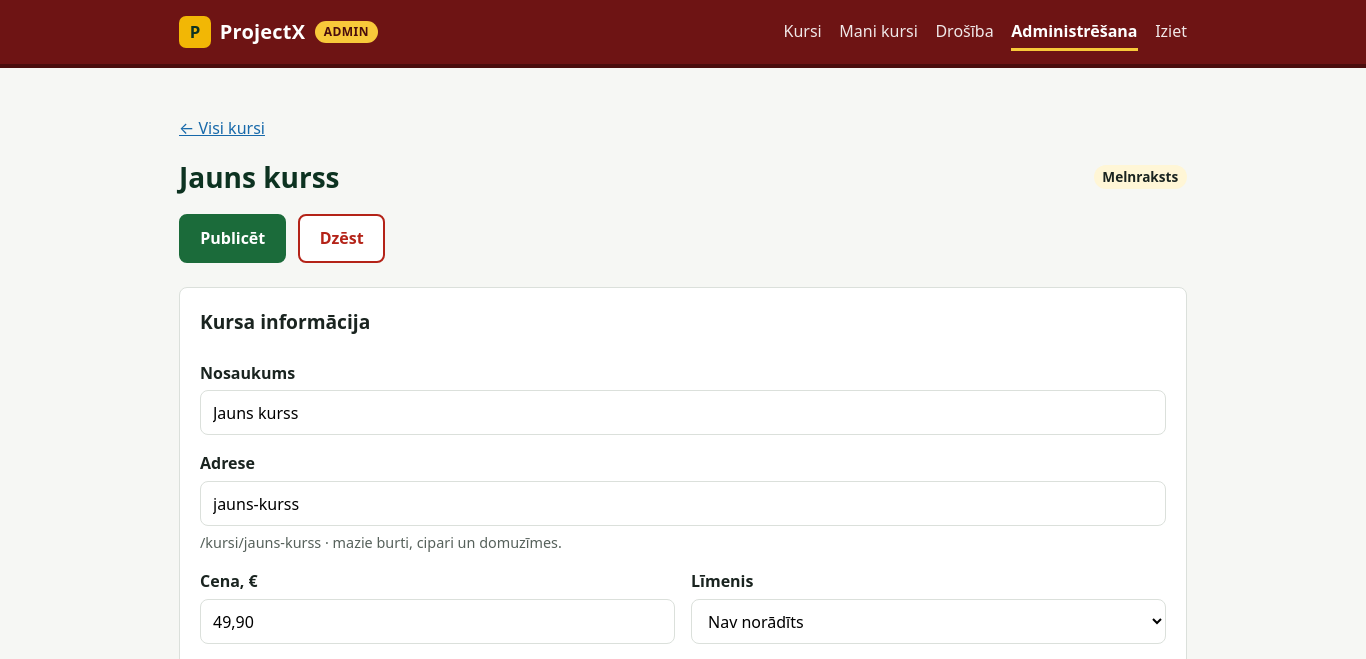
Test: admin courses › shows a Latvian explanation when publishing an empty course fails
Click the button "Publicēt": (233,238) [179,214,286,263]
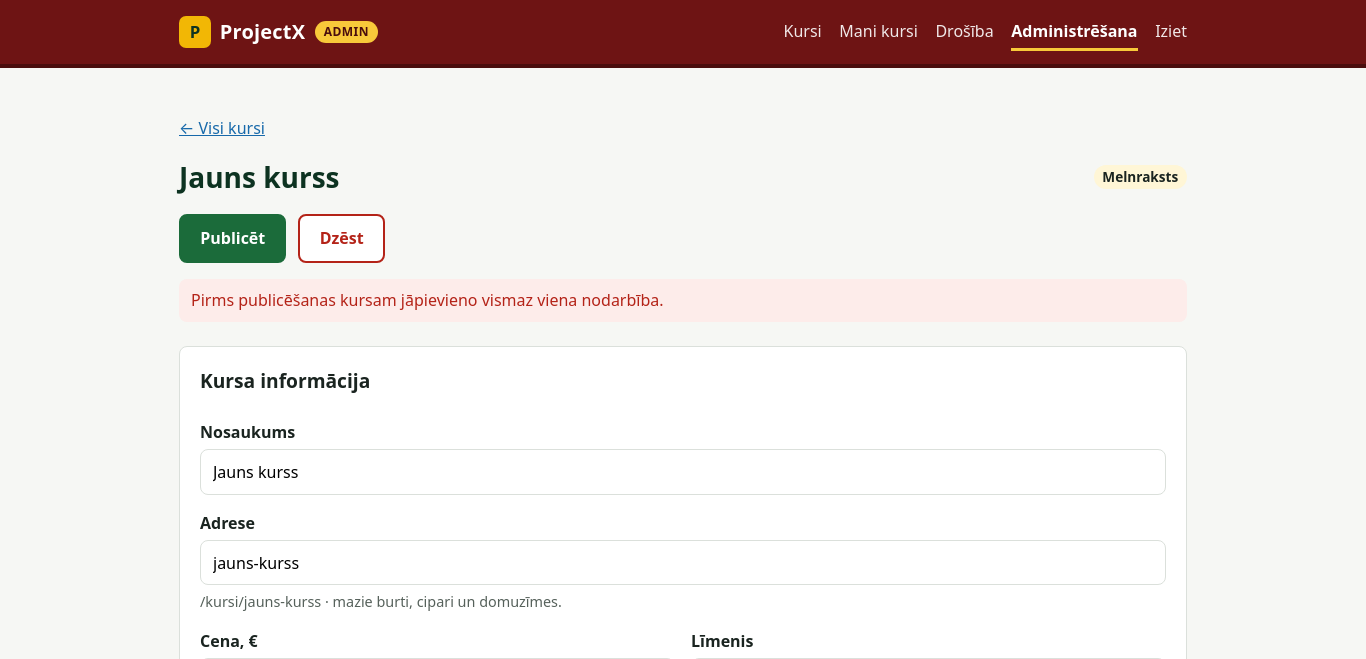
Expected: the message shows "jāpievieno vismaz viena nodarbība", [191,289,664,311]
